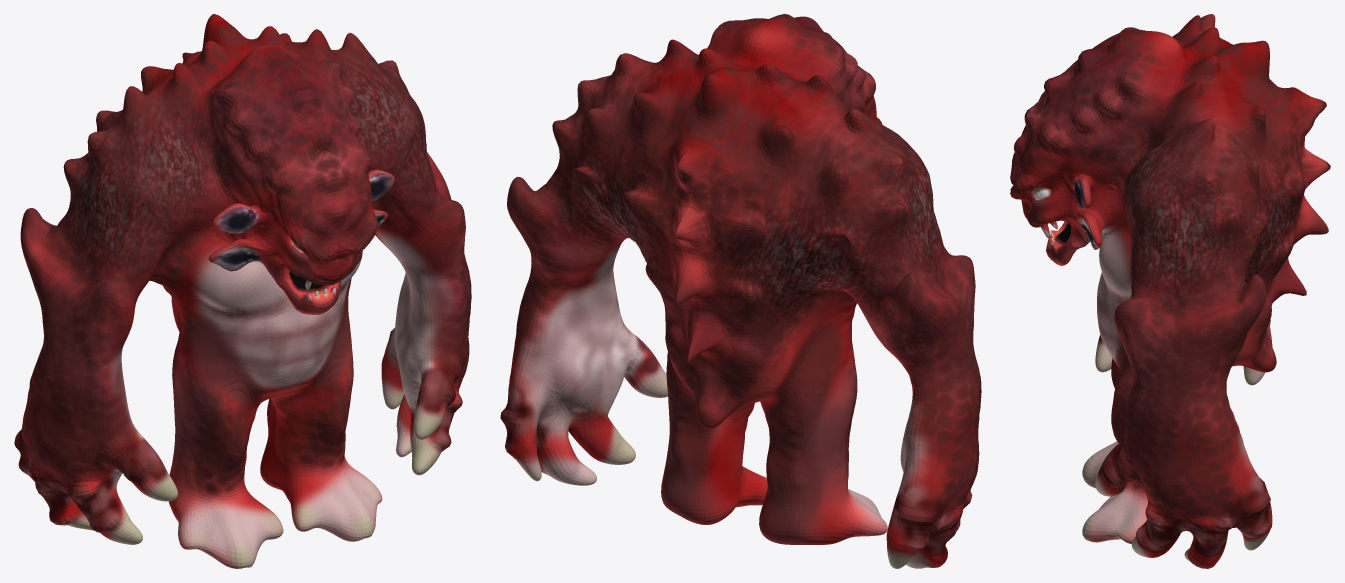
Rendered from creature.OBJ.
3 views of the same model, side by side, from view 1: azimuth 30°, elevation 25°; view 2: azimuth 150°, elevation 25°; view 3: azimuth 270°, elevation 25° (orthographic). The views are drawn at different scales.
Visible parts, largest first — view 1: Group1; view 2: Group1; view 3: Group1.
Part boxes in pixels (x1,y1,x2,y2): Group1: (14, 14, 471, 568); Group1: (500, 14, 981, 568); Group1: (1010, 14, 1330, 568).
Bounding box in the file's own units: 66.27 × 72.42 × 43.93.
